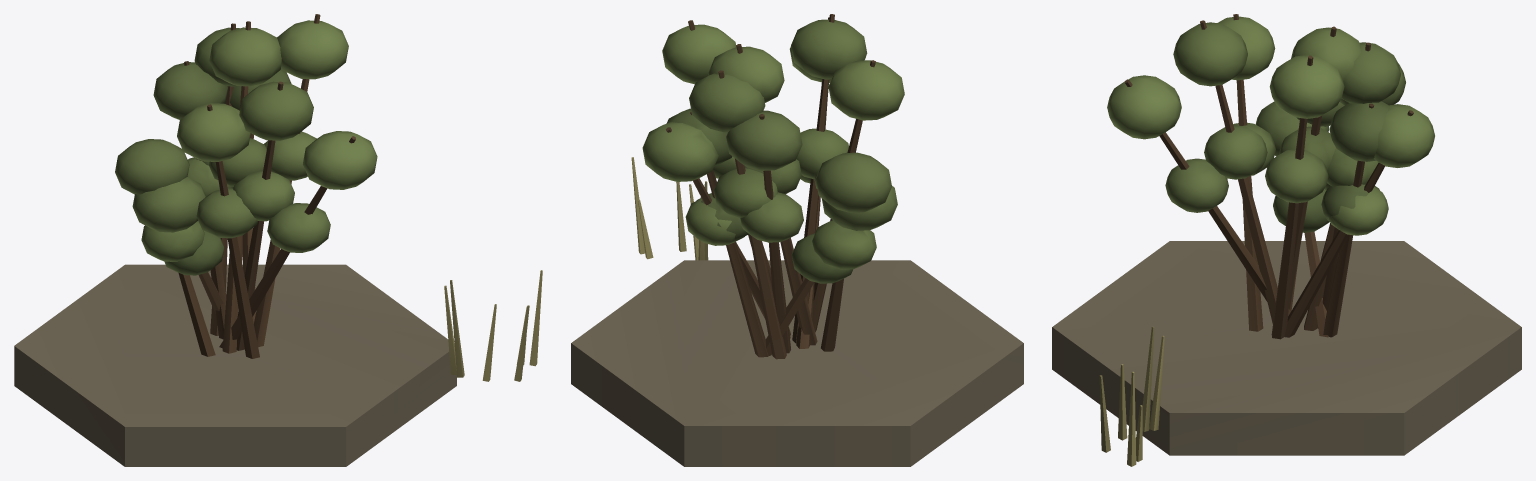
Rendered from desert_scrub_b.glb.
3 renders of one model, left to right at view 1: azimuth 30°, elevation 25°; view 2: azimuth 150°, elevation 25°; view 3: azimuth 270°, elevation 25°, orthographic. The views are drawn at different scales.
Parts seen in each view (by area): view 1: Surface; view 2: Surface; view 3: Surface.
Part boxes in pixels (x1,y1,x2,y2): Surface: (14,14,542,466); Surface: (571,14,1023,466); Surface: (1052,14,1521,466).
Bounding box in the file's own units: 3.14 × 2.55 × 3.
